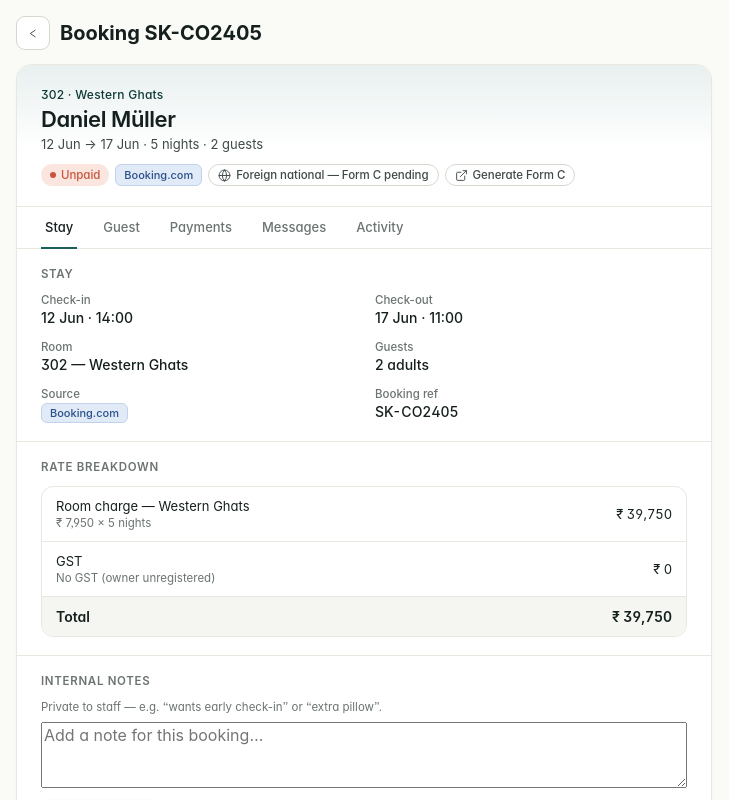
Test: BookingDetailView foreign-national badge › renders the guest tab with no email and no ID document on file
Click the button "Guest" at (122, 228), box 99,207 -> 144,249
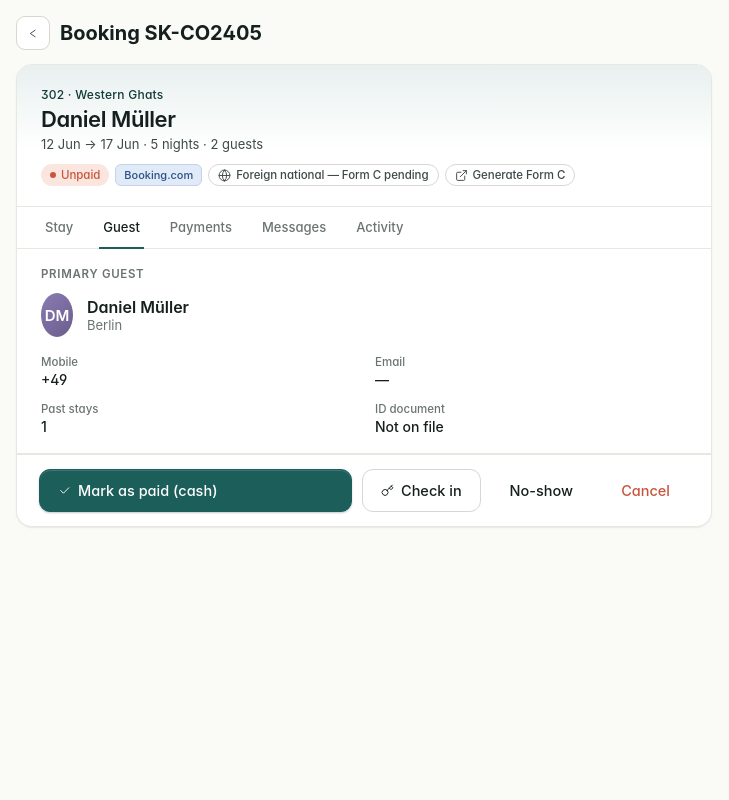
Expected: the text "—" is shown, 375,371 -> 389,388
Expected: the text "Not on file" is shown, 375,418 -> 444,435
